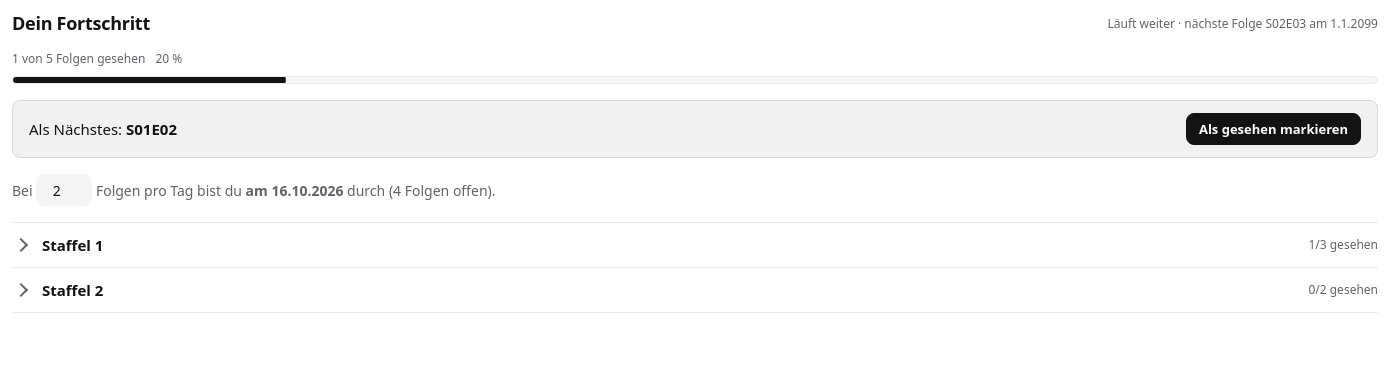
Test case: SeriesProgress › marks a whole season and only counts aired episodes
Step 1. Click the text "Staffel 2" → x=73, y=290, box [42, 280, 103, 300]
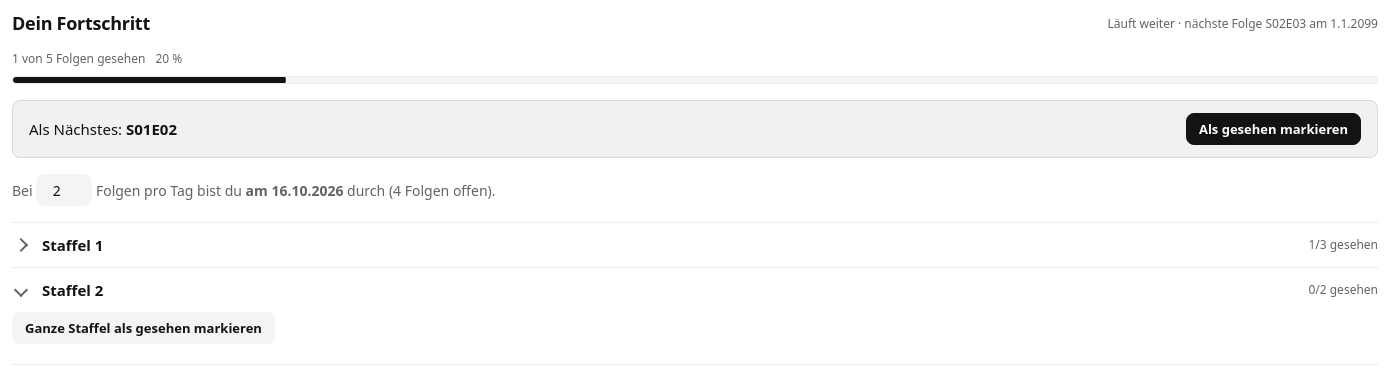
Step 2. Click the button "Ganze Staffel als gesehen markieren" → x=143, y=328, box [12, 312, 275, 344]
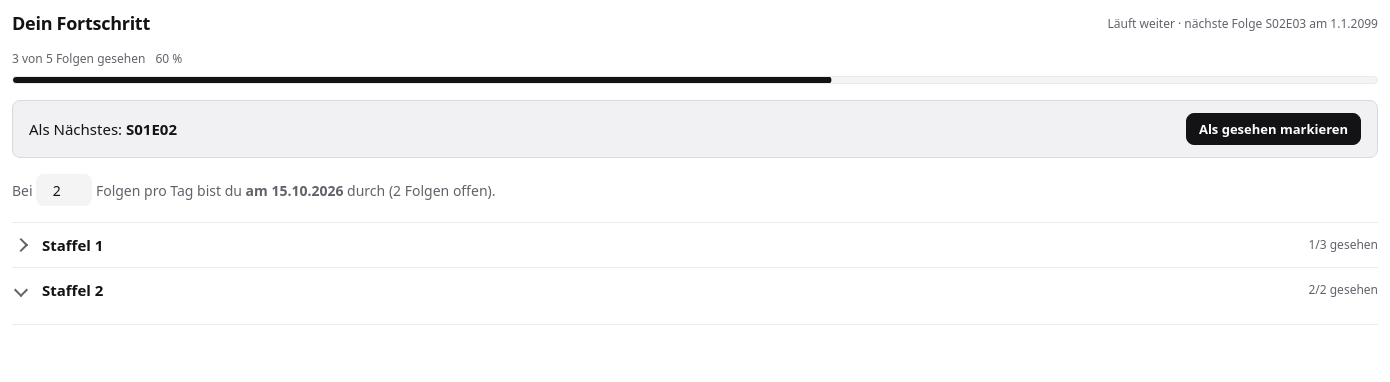
Expected: the text "3 von 5 Folgen gesehen" is shown, [12, 51, 145, 68]
